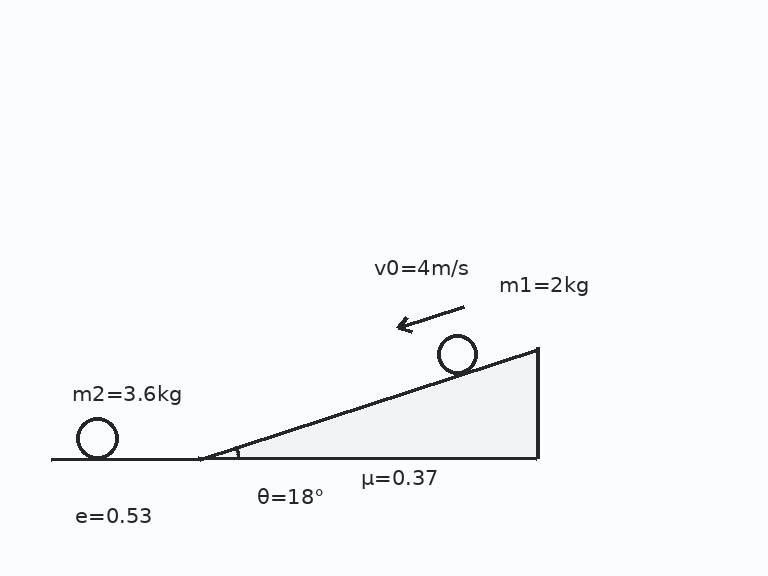ball: (74, 415, 120, 461), (435, 332, 479, 376)
ramp: (196, 347, 540, 461)
